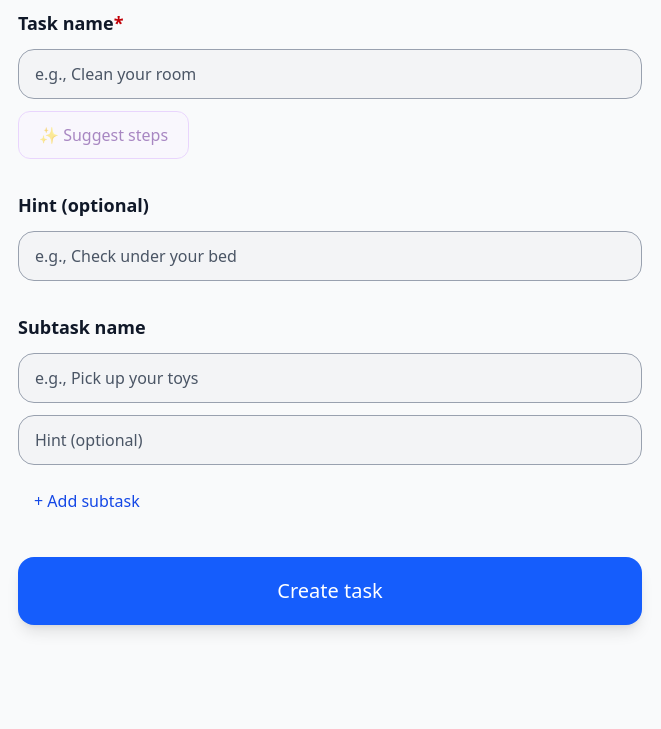
Test: AddTask - AI step suggestions › shows the rate-limit message on a 429
In the field labelled "Task name*": (330, 74) [18,49,642,99], type "Clean your room"
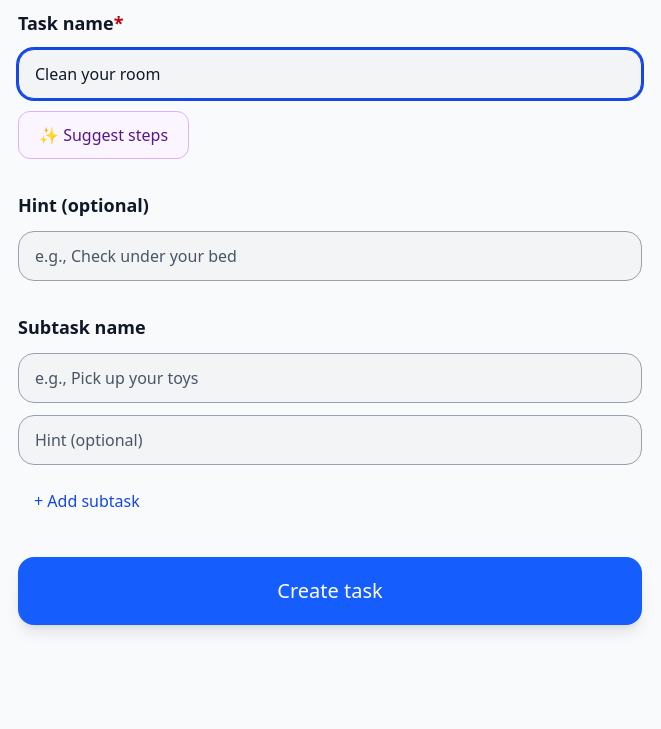
Click the button "✨ Suggest steps": (104, 135) [18,111,189,159]
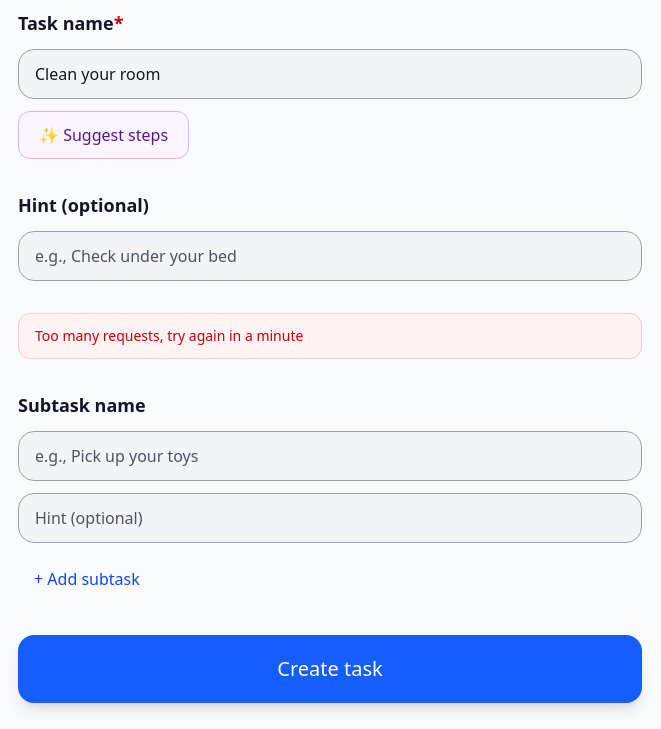
Now the message reads "Too many requests, try again in a minute", box [35,326,303,345]
